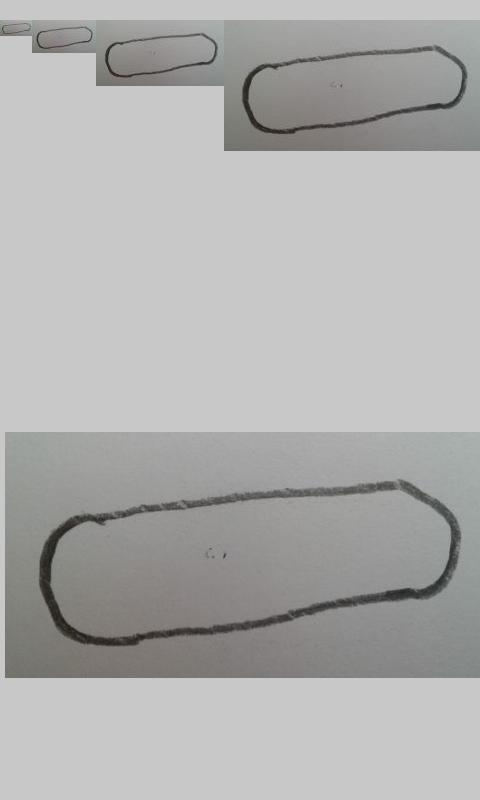chip: (39, 479, 463, 649), (241, 45, 467, 135), (105, 32, 218, 78), (36, 26, 93, 49), (2, 22, 32, 35)
